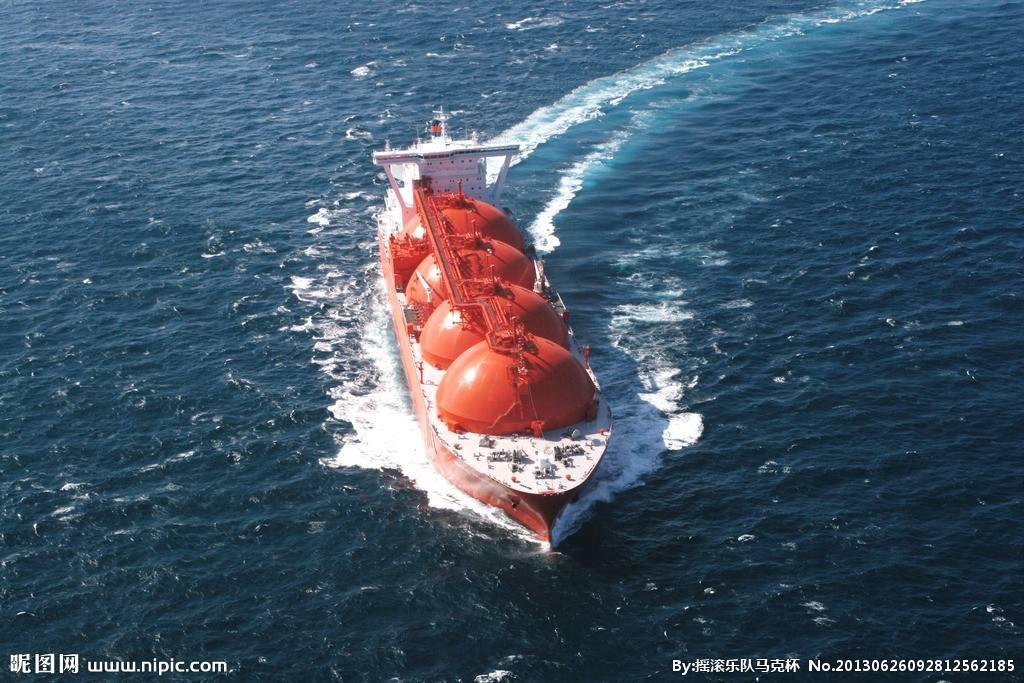Cargoship: (355, 116, 608, 545)
